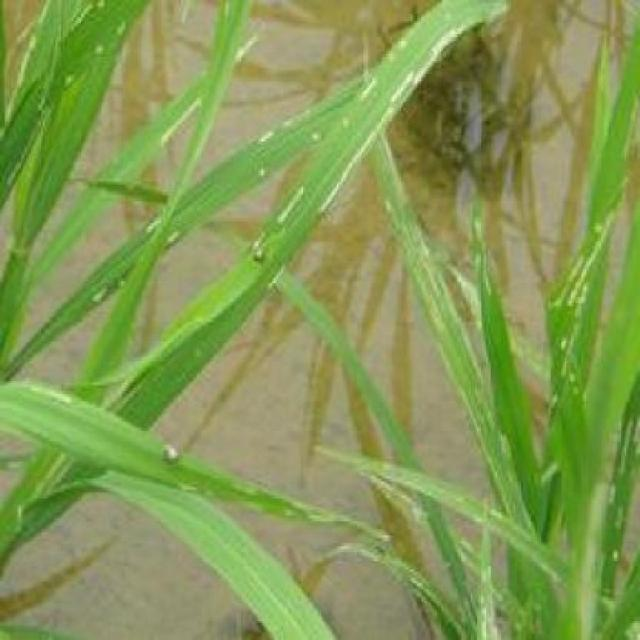rice-bug: (250, 237, 268, 265), (165, 440, 182, 465)
